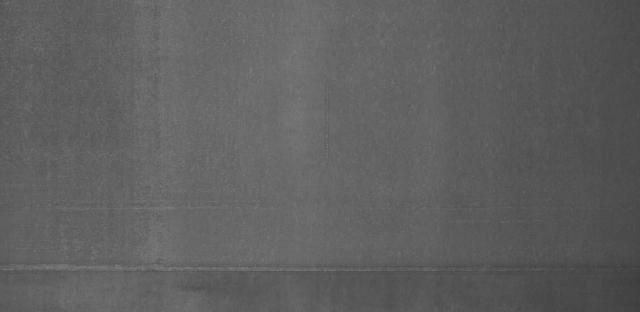welding_line: (3, 265, 640, 280)
